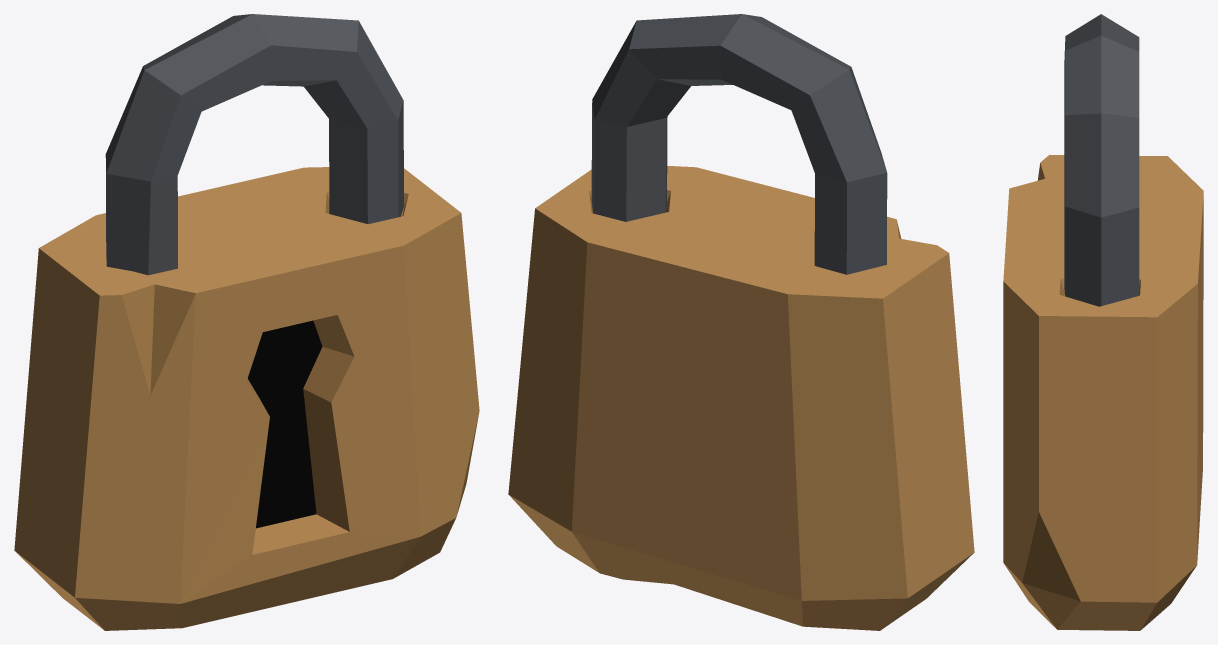
The model's file is SM_Prop_Padlock_01.fbx.
The picture shows the model from 3 angles, left to right: view 1: azimuth 30°, elevation 25°; view 2: azimuth 150°, elevation 25°; view 3: azimuth 270°, elevation 25°; orthographic projection. The views are drawn at different scales.
Parts seen in each view (by area): view 1: SM_Prop_Padlock_01, SM_Prop_Padlock_01_Lock; view 2: SM_Prop_Padlock_01, SM_Prop_Padlock_01_Lock; view 3: SM_Prop_Padlock_01, SM_Prop_Padlock_01_Lock.
Part boxes in pixels (<box>): SM_Prop_Padlock_01: <box>14,167,479,630</box>; SM_Prop_Padlock_01_Lock: <box>105,14,403,275</box>; SM_Prop_Padlock_01: <box>508,166,974,630</box>; SM_Prop_Padlock_01_Lock: <box>591,14,887,274</box>; SM_Prop_Padlock_01: <box>1003,154,1203,630</box>; SM_Prop_Padlock_01_Lock: <box>1064,14,1139,306</box>.
Size of the model in its own units: 17.89 by 23.4 by 8.15.
